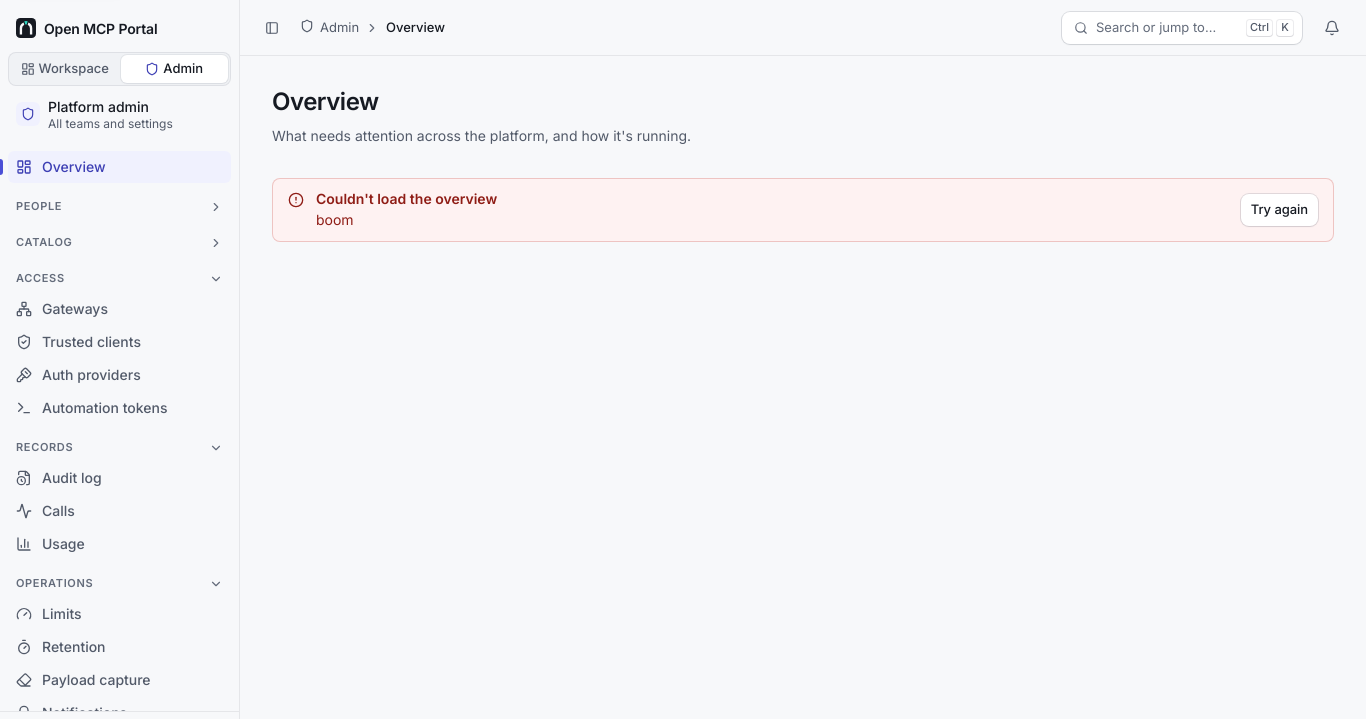
it: Admin › Overview › shows an inline error with Retry
Check: the text "Couldn't load the overview" is shown, box x1=316 y1=190 x2=497 y2=207
What coordinates should you click on to do the following:
click the button "Try again"
I would click on:
 (1279, 210)
Its box is x1=1241 y1=194 x2=1318 y2=226.
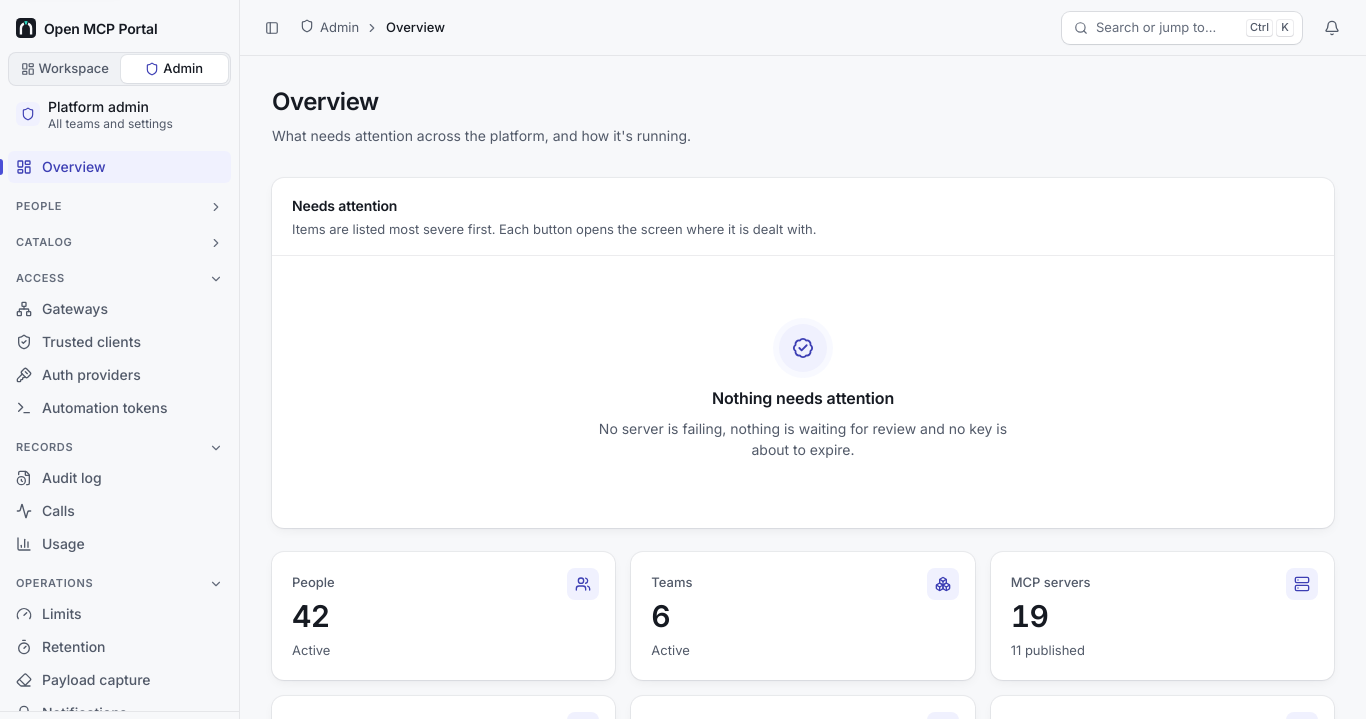
Check: the text "Nothing needs attention" is shown, box x1=712 y1=388 x2=894 y2=410
